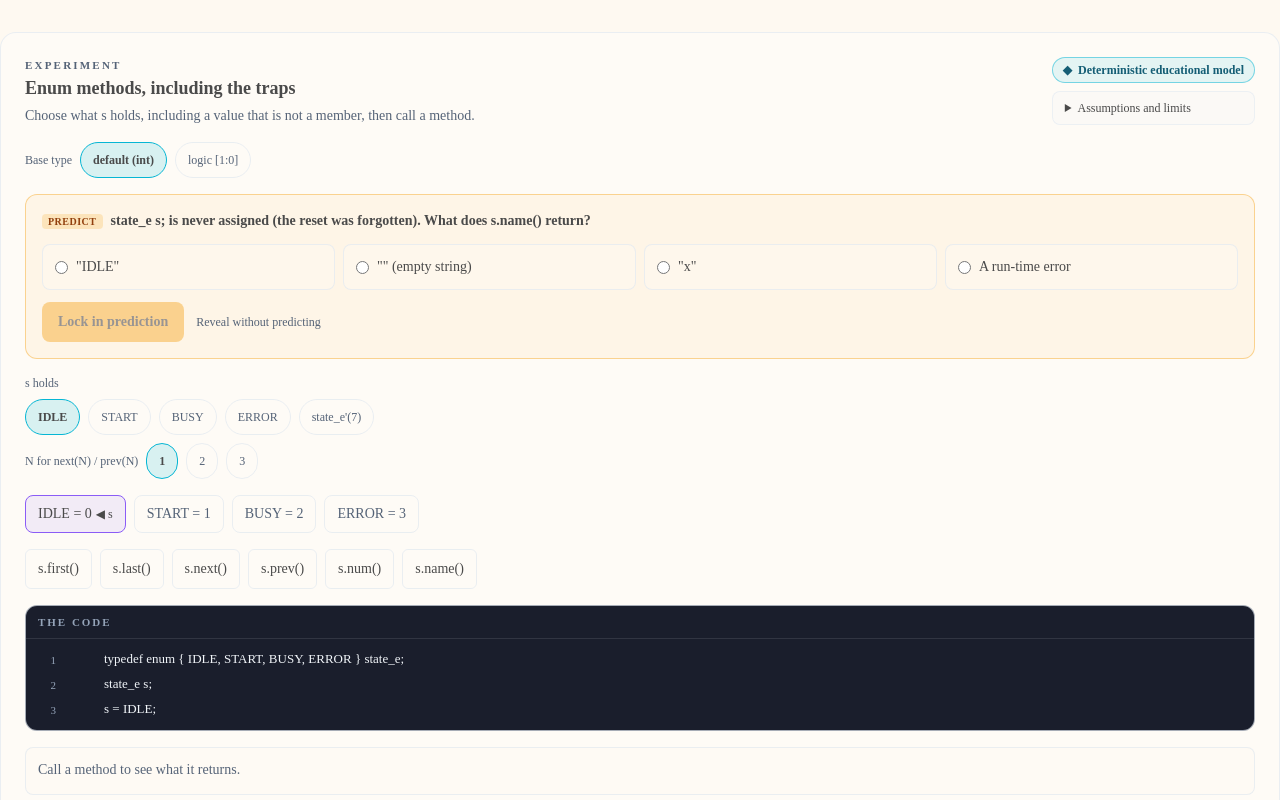
Scenario: EnumMethodVisualizer › gates the default-value trap behind a prediction: an int-based enum starts at IDLE
Expected: the text "an unassigned" is not shown
Click the radio button labelled "\"\" (empty string)" at point(362, 267), box top-left (356, 260), bottom-right (369, 274)
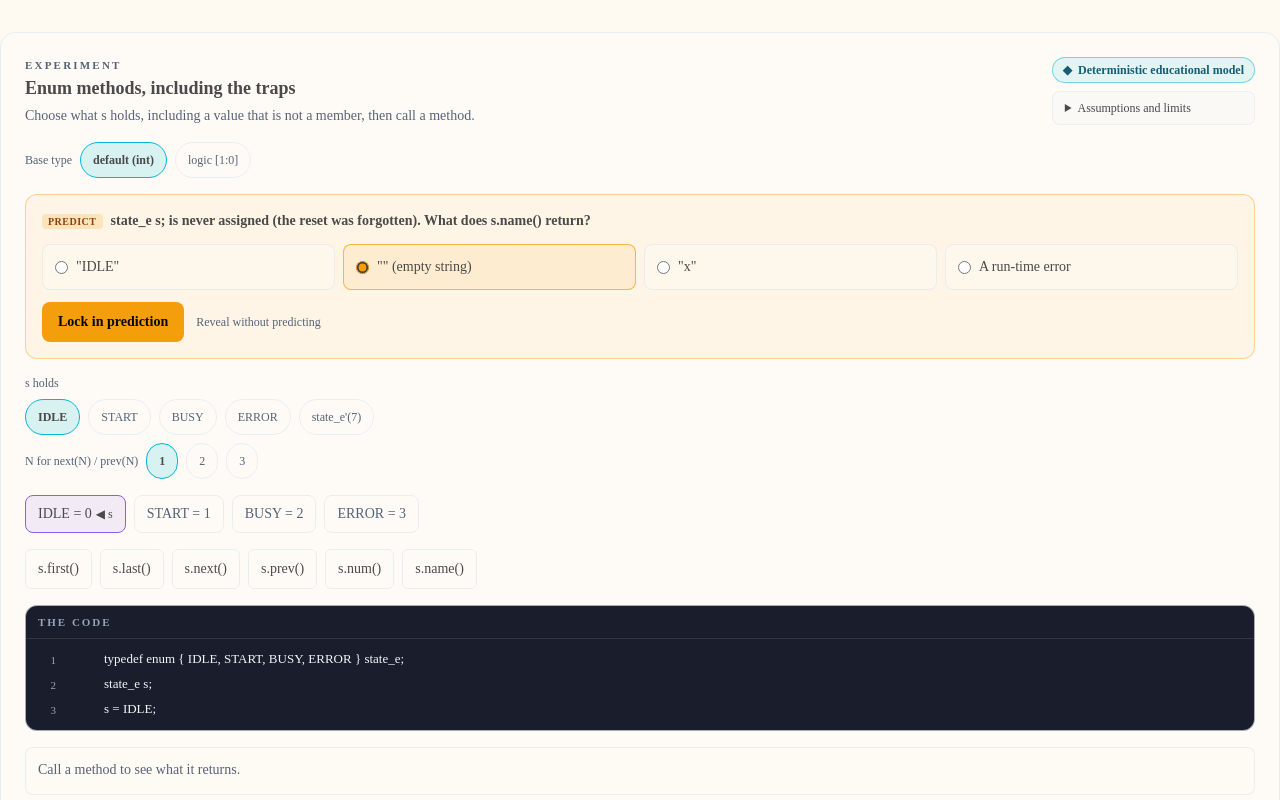
Click the button "Lock in prediction" at point(113, 322), box top-left (42, 302), bottom-right (184, 342)
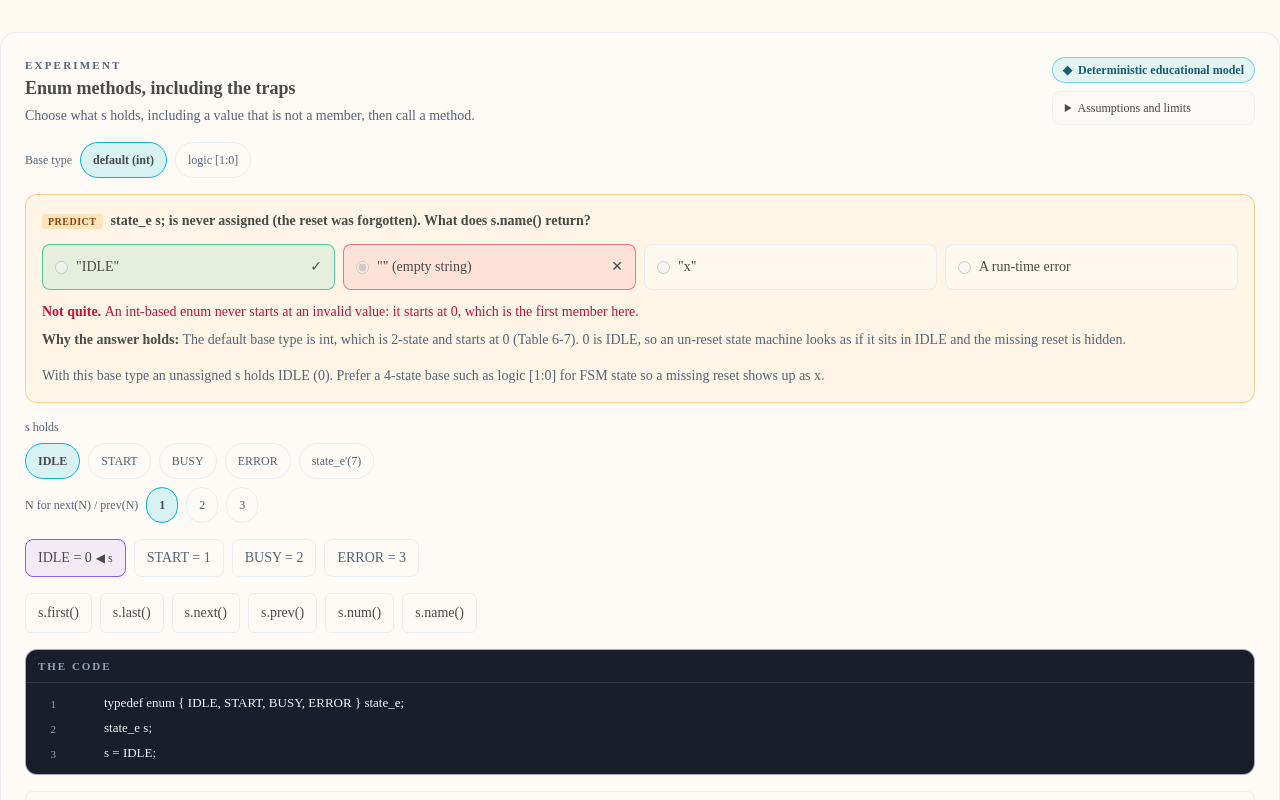
Now the text "Not quite." is shown, box top-left (42, 304), bottom-right (105, 318)
Now the text "starts at 0" is shown, box top-left (105, 304), bottom-right (639, 318)
